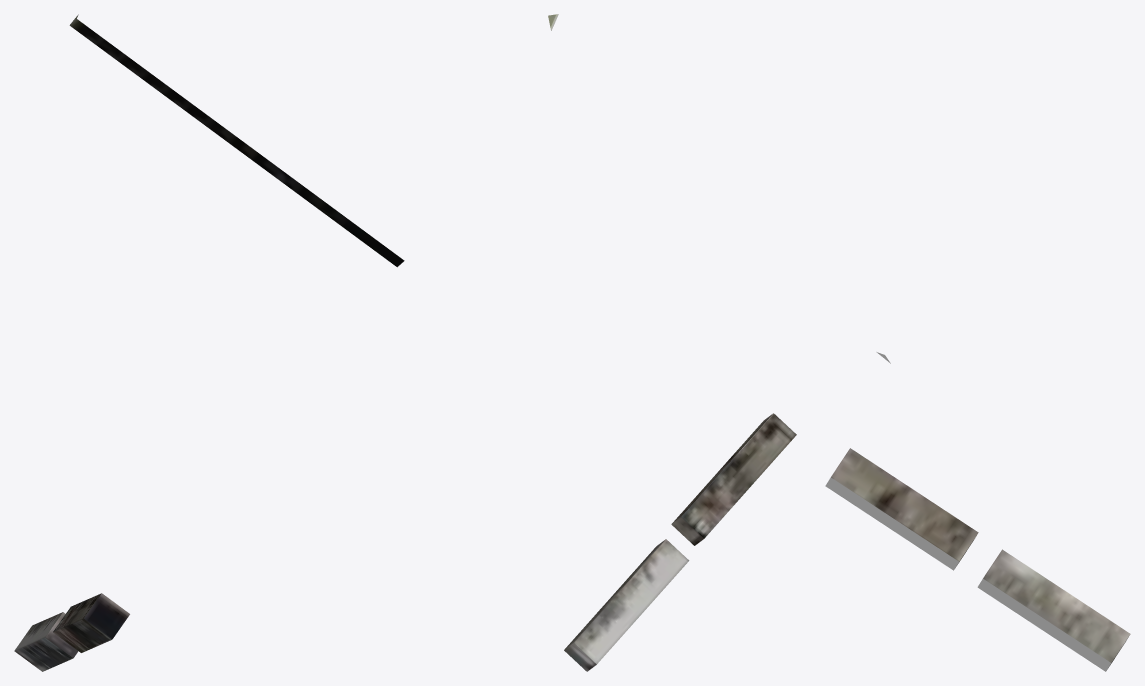
The model's file is 19765_bldg_Building.glb.
3 renders of one model, left to right at view 1: azimuth 30°, elevation 25°; view 2: azimuth 150°, elevation 25°; view 3: azimuth 270°, elevation 25°, orthographic. The views are drawn at different scales.
Size of the model in its own units: 39.61 by 71.63 by 29.43.
Materials: 2 (1 with a texture image).
